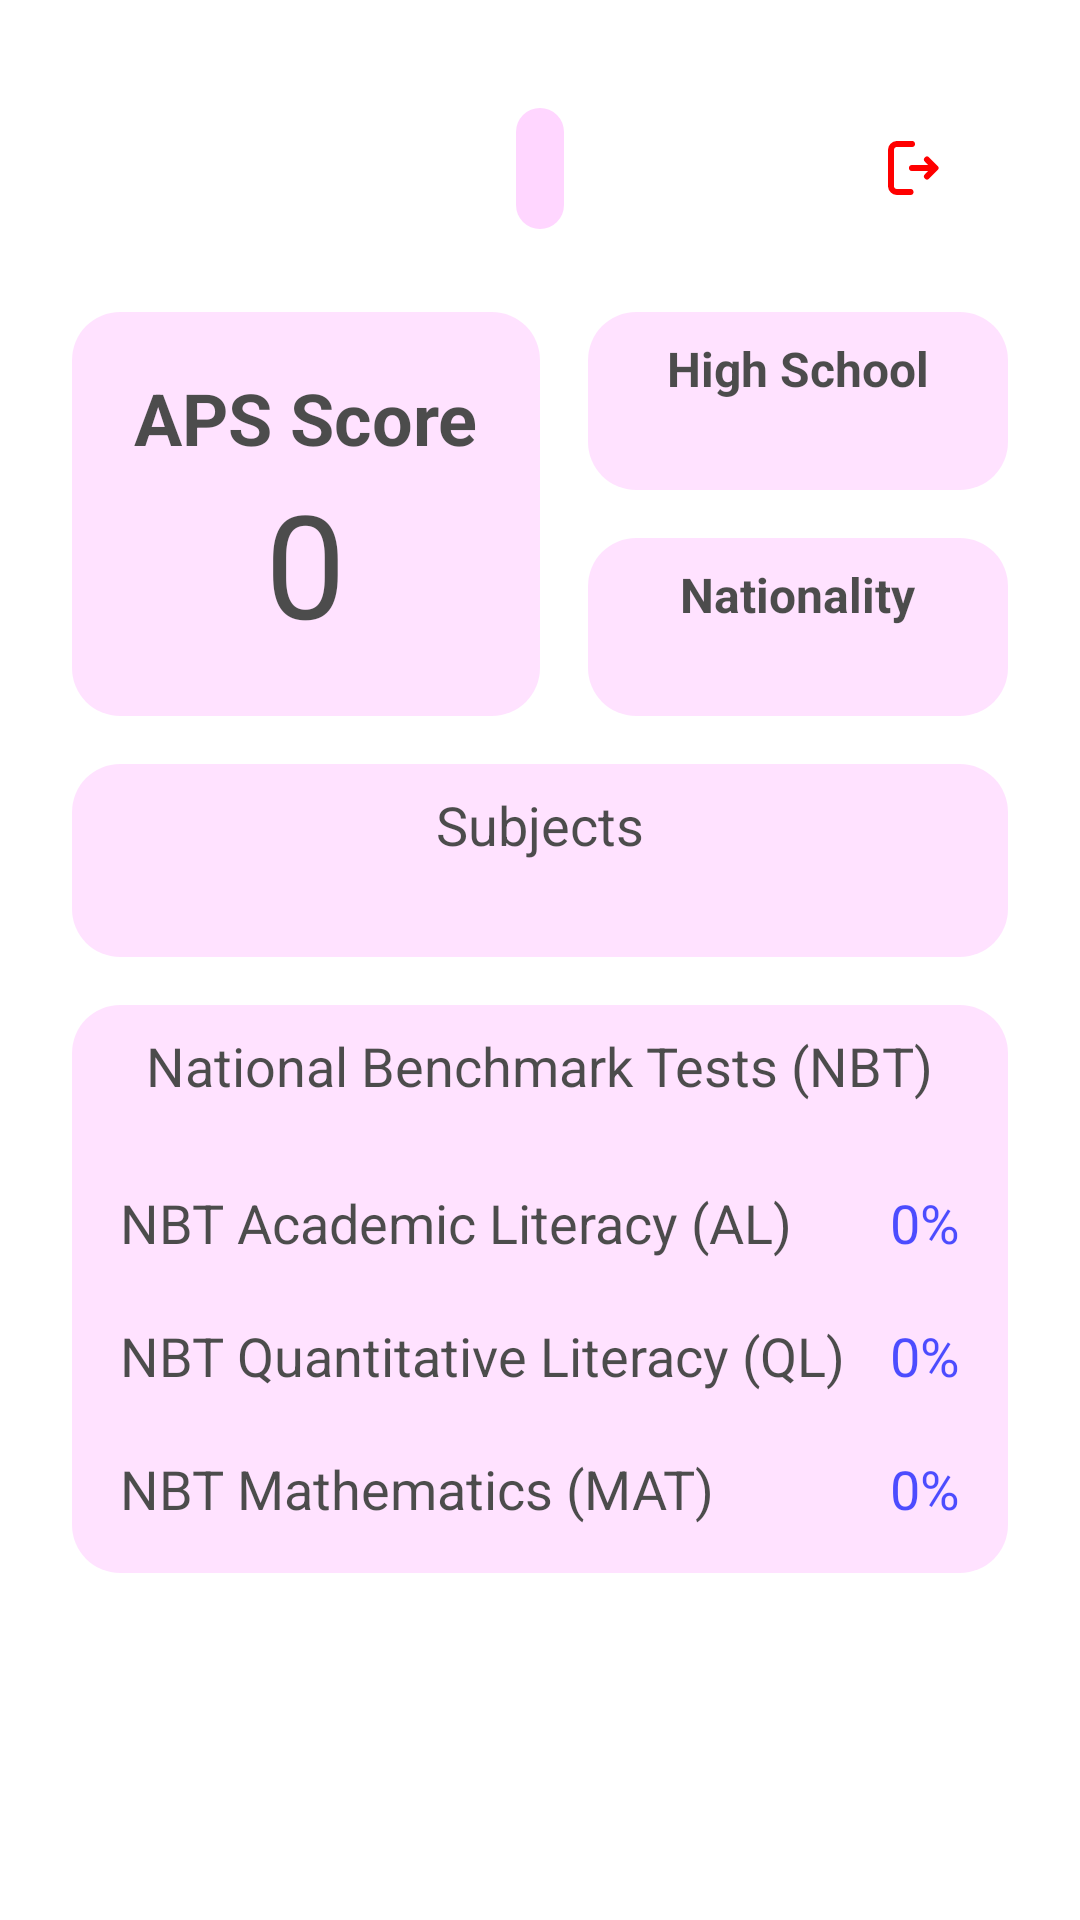

Screen size 1080*1920. Icon name, then its center in pixels as point (x, y):
Exit: point (913, 168)
